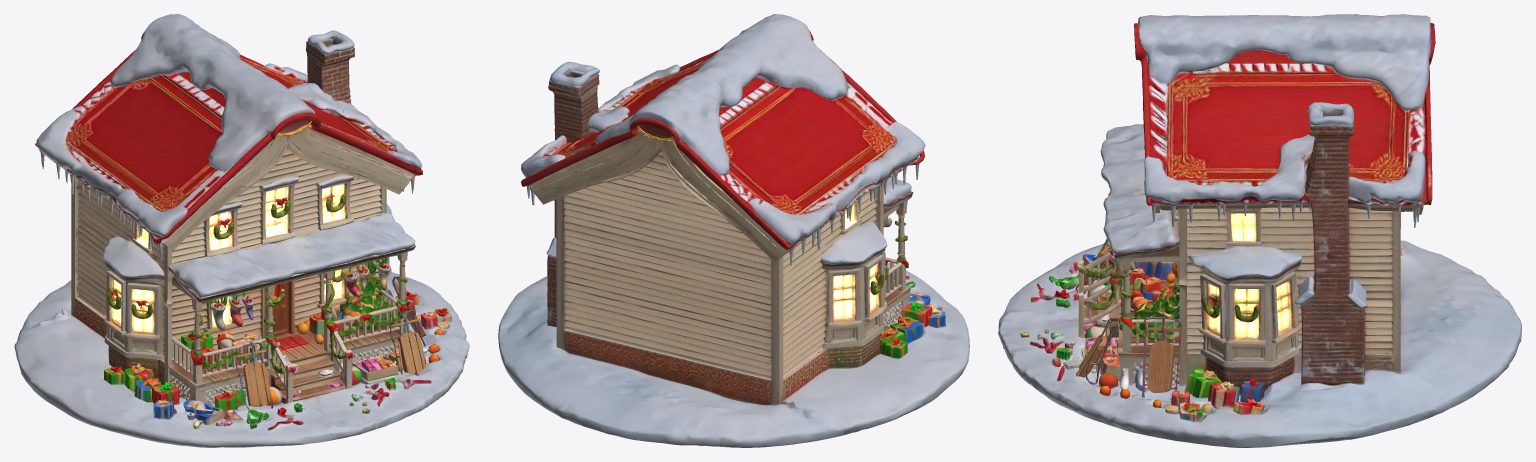
Rendered from christmas-every-day.glb.
The picture shows the model from 3 angles, left to right: view 1: azimuth 30°, elevation 25°; view 2: azimuth 150°, elevation 25°; view 3: azimuth 270°, elevation 25°; orthographic projection. The views are drawn at different scales.
Visible parts, largest first — view 1: model; view 2: model; view 3: model.
Part boxes in pixels (left/top/right/bottom): model: left=14, top=14, right=469, bottom=447; model: left=498, top=14, right=969, bottom=447; model: left=998, top=14, right=1521, bottom=447.
Bounding box in the file's own units: 1.87 × 1.3 × 1.9.
1 material, 1 textured.
